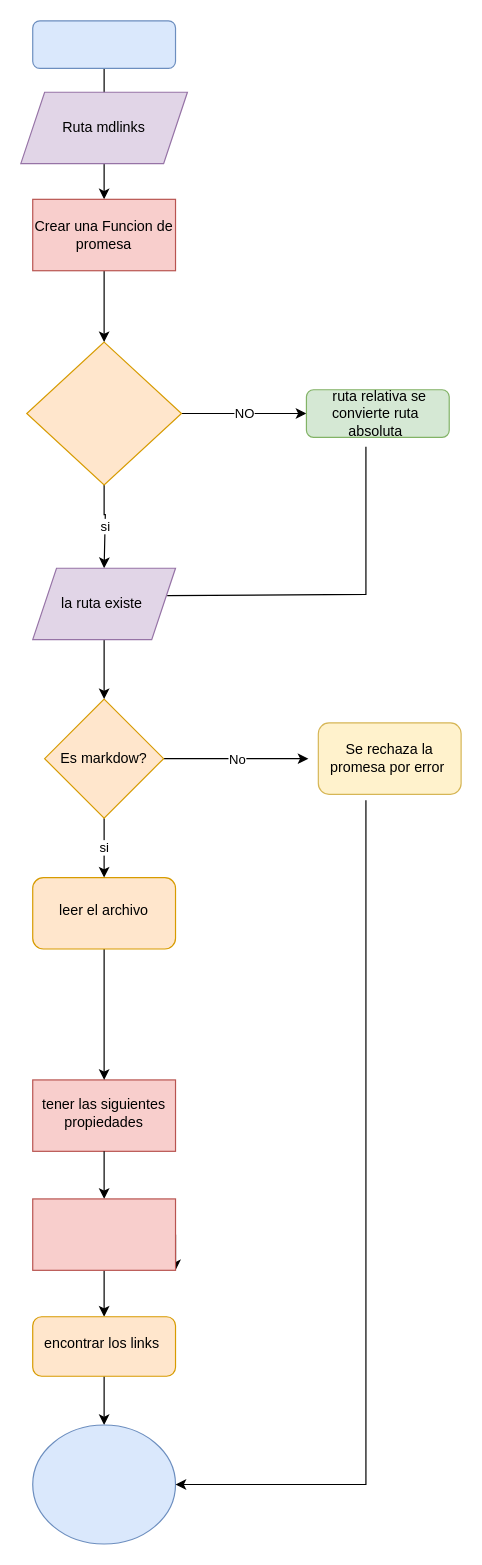
This 482x1565 diagram has some shape labels left out. The box of each missing label's shape, as (x1, y1, x2, y2) in pixels:
fin 1 hito: (32, 1424, 176, 1544)
href text file: (32, 1198, 176, 1270)
Inicio: (32, 20, 176, 68)
Ruta Absoluta'?: (26, 341, 181, 485)
